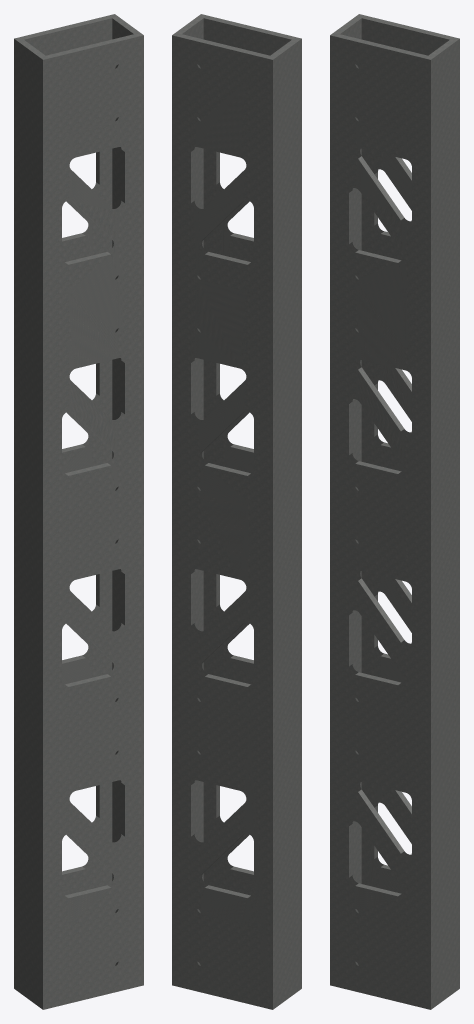
File: rear_strut_top.min.dae
3 views of the same model, side by side, from view 1: azimuth 30°, elevation 25°; view 2: azimuth 150°, elevation 25°; view 3: azimuth 330°, elevation 25° (orthographic).
Visible parts, largest first — view 1: SketchUp; view 2: SketchUp; view 3: SketchUp.
Part boxes in pixels (bbox=[...]): SketchUp: bbox=[14, 14, 143, 1009]; SketchUp: bbox=[172, 14, 301, 1009]; SketchUp: bbox=[330, 14, 459, 1009].
Size of the model in its own units: 2 by 1 by 18.
1 material, 1 textured.
